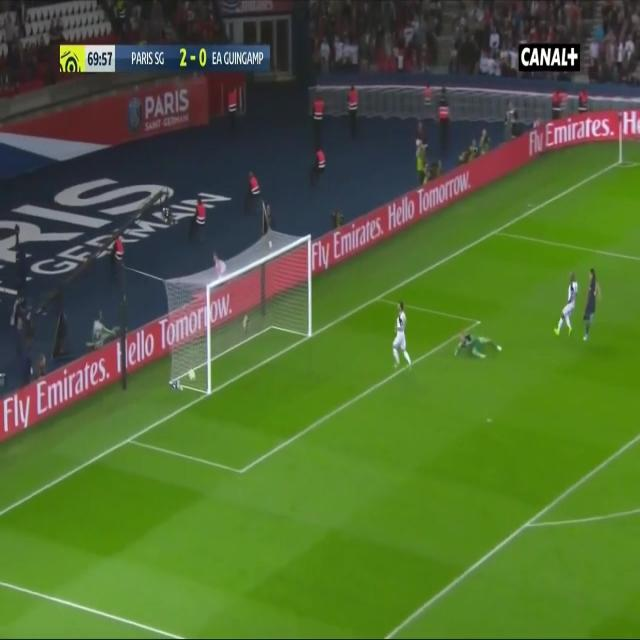Ball: (188, 366, 196, 386)
Goalkeeper: (451, 326, 504, 364)
Player: (551, 270, 581, 338), (388, 297, 413, 373), (582, 266, 601, 342)
